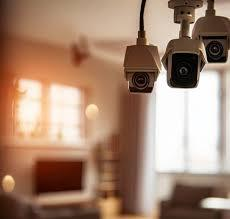maru: (122, 34, 162, 99), (163, 35, 206, 90), (193, 13, 230, 67)
